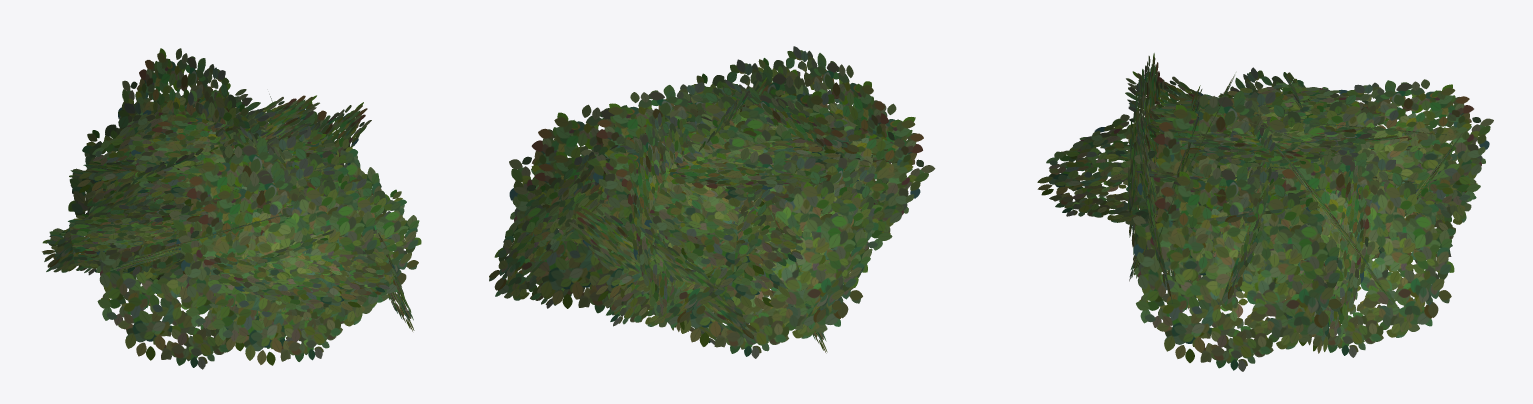
Rendered from Bush_Common_LOD1.gltf.
3 renders of one model, left to right at view 1: azimuth 30°, elevation 25°; view 2: azimuth 150°, elevation 25°; view 3: azimuth 270°, elevation 25°, orthographic. The views are drawn at different scales.
Visible parts, largest first — view 1: Bush_Common_LOD1; view 2: Bush_Common_LOD1; view 3: Bush_Common_LOD1.
Part boxes in pixels (bbox=[...]): Bush_Common_LOD1: bbox=[42, 48, 421, 369]; Bush_Common_LOD1: bbox=[489, 46, 935, 358]; Bush_Common_LOD1: bbox=[1037, 53, 1493, 371].
Bounding box in the file's own units: 2.04 × 1.3 × 2.43.
Materials: 1 (1 with a texture image).
